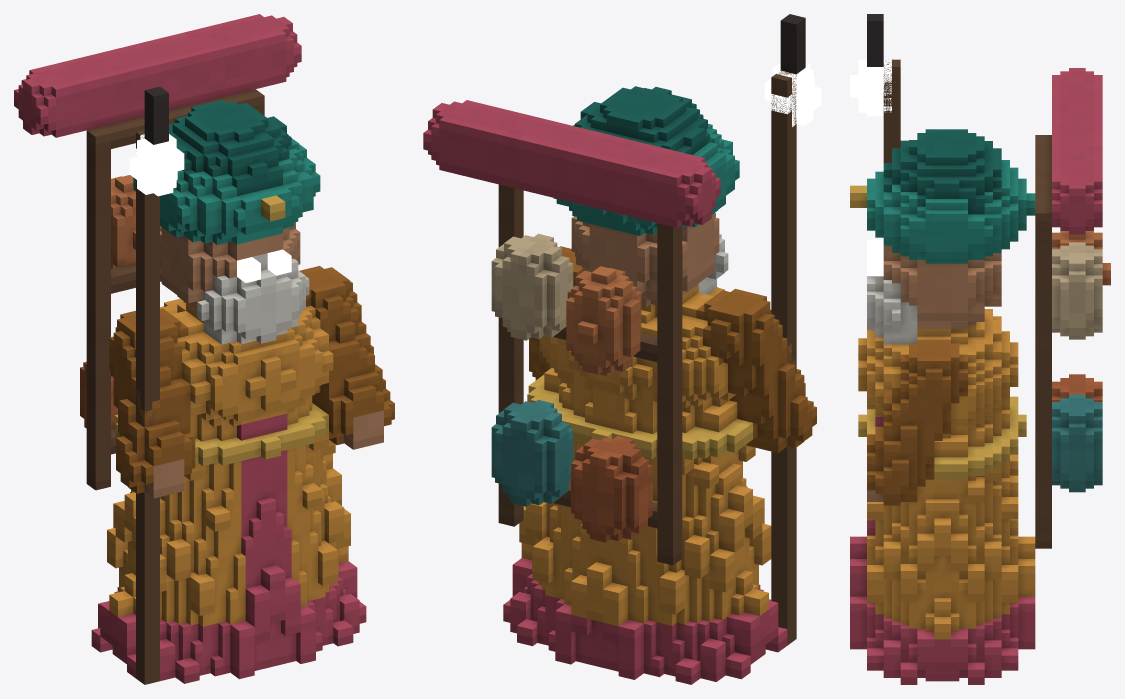
Rendered from u_marchand.glb.
3 views of the same model, side by side, from view 1: azimuth 30°, elevation 25°; view 2: azimuth 150°, elevation 25°; view 3: azimuth 270°, elevation 25° (orthographic). The views are drawn at different scales.
Parts seen in each view (by area): view 1: marchand_body, marchand_weapon, marchand_weaponglow, marchand_glow; view 2: marchand_body, marchand_weapon, marchand_weaponglow; view 3: marchand_body, marchand_weapon, marchand_weaponglow, marchand_glow.
Part boxes in pixels (x1=…): marchand_body: x1=14, y1=14, x2=394, y2=683; marchand_weapon: x1=136, y1=86, x2=168, y2=684; marchand_weaponglow: x1=129, y1=134, x2=184, y2=196; marchand_glow: x1=237, y1=249, x2=291, y2=282; marchand_body: x1=423, y1=86, x2=816, y2=684; marchand_weapon: x1=771, y1=14, x2=805, y2=645; marchand_weaponglow: x1=764, y1=63, x2=821, y2=126; marchand_body: x1=850, y1=68, x2=1110, y2=684; marchand_weapon: x1=867, y1=14, x2=900, y2=162; marchand_weaponglow: x1=850, y1=59, x2=891, y2=116; marchand_glow: x1=867, y1=239, x2=883, y2=276.
Bounding box in the file's own units: 0.85 × 1.85 × 0.775.
